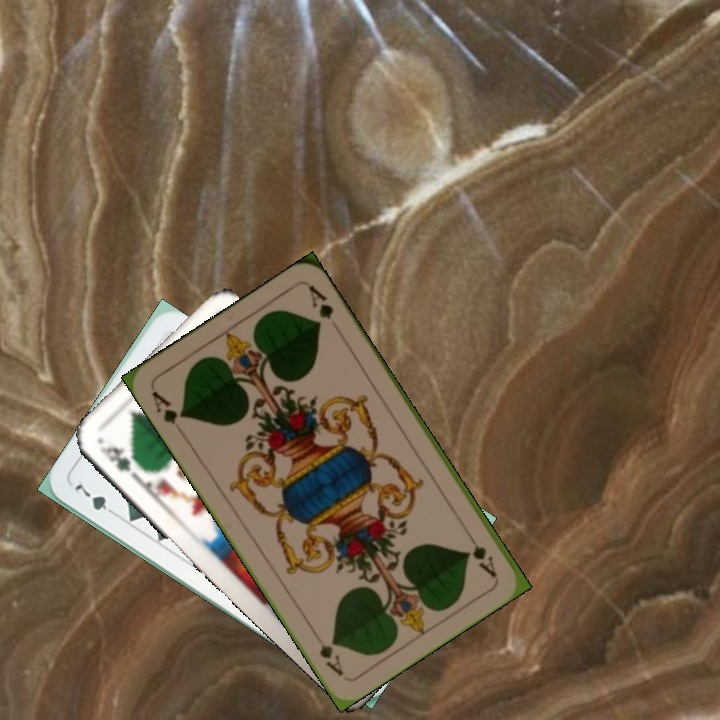G7: (69, 479, 121, 519)
GA: (148, 386, 188, 438), (462, 527, 500, 580)
GK: (95, 442, 143, 484)
